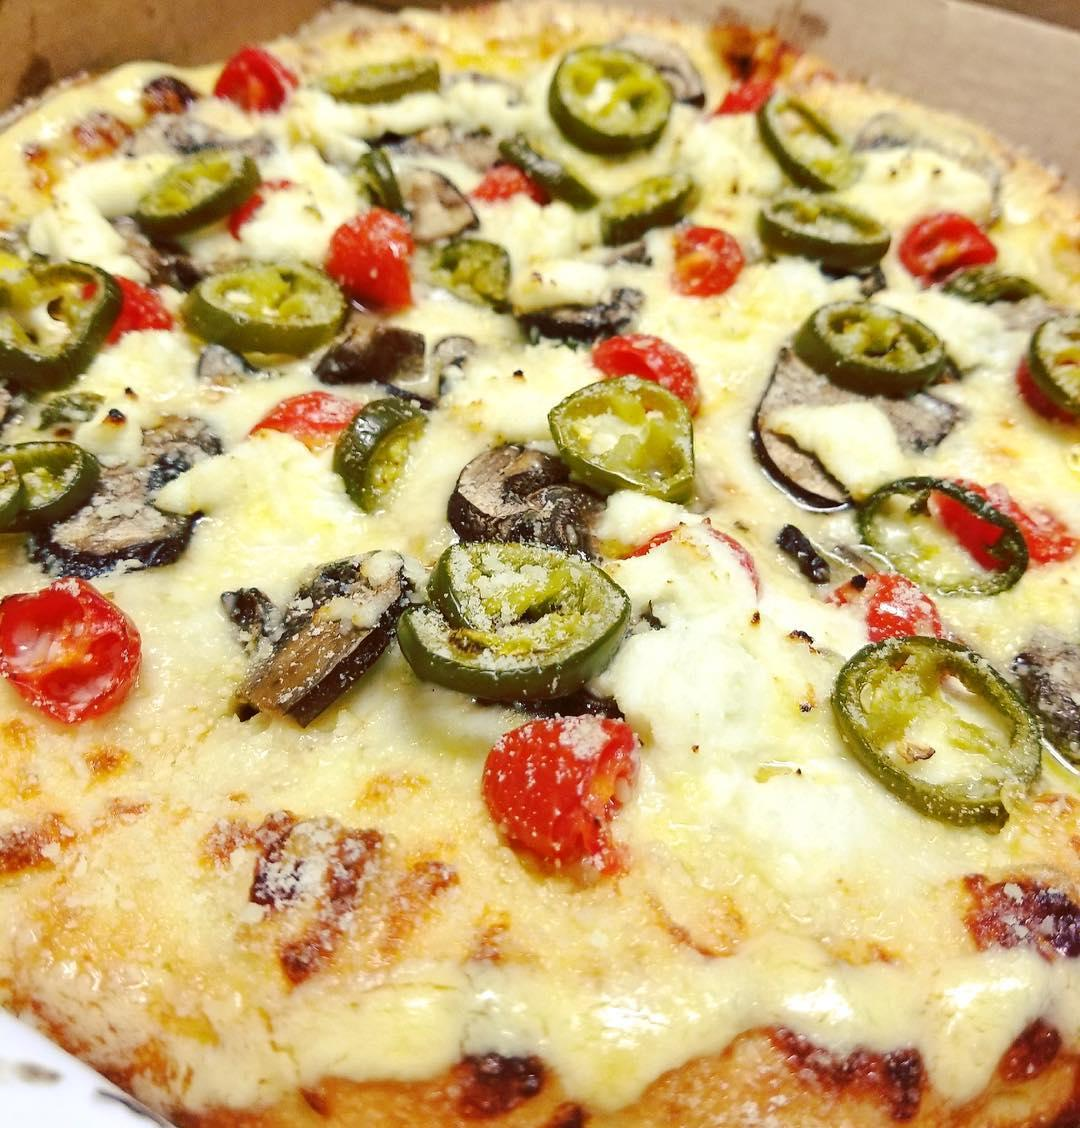Cheese: (125, 734, 475, 1008), (653, 581, 814, 990), (836, 861, 1023, 1042), (495, 894, 647, 1053), (145, 587, 264, 742), (702, 318, 775, 568), (129, 344, 270, 463), (184, 460, 330, 561), (444, 322, 557, 421)
Mushroom: (758, 341, 973, 499), (247, 543, 423, 718), (52, 462, 202, 566), (444, 445, 597, 542), (292, 326, 445, 384), (393, 159, 481, 244), (525, 287, 649, 339), (452, 73, 528, 147)
Peppers: (827, 620, 1051, 832), (403, 533, 636, 696), (850, 464, 1026, 605), (546, 370, 696, 503), (531, 38, 678, 159), (1, 257, 110, 397), (129, 141, 260, 244), (797, 299, 950, 387), (758, 186, 895, 268), (188, 265, 341, 337), (332, 393, 422, 508), (759, 93, 845, 181), (312, 48, 445, 106), (0, 439, 91, 523), (596, 168, 694, 233), (1029, 310, 1080, 414), (448, 231, 512, 293)
Pizza: (1, 28, 1080, 1128)
Tomatoes: (470, 717, 652, 869), (0, 583, 137, 737), (945, 472, 1072, 566), (330, 206, 421, 309), (602, 324, 705, 405), (897, 208, 978, 284), (209, 50, 295, 121), (675, 221, 741, 310), (231, 170, 299, 250), (720, 40, 784, 121), (464, 161, 550, 207)
